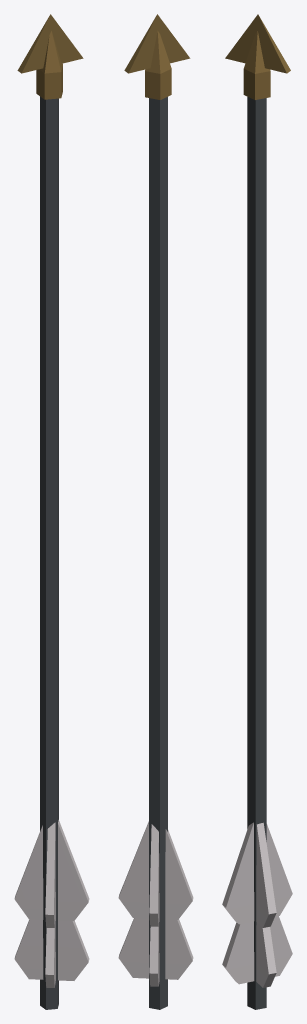
File: _arrow_b_19.glb
The picture shows the model from 3 angles, left to right: view 1: azimuth 30°, elevation 25°; view 2: azimuth 210°, elevation 25°; view 3: azimuth 330°, elevation 25°; orthographic projection.
Visible parts, largest first — view 1: arrow_b_19; view 2: arrow_b_19; view 3: arrow_b_19.
Part boxes in pixels (<box>): arrow_b_19: <box>14,14,89,1009</box>; arrow_b_19: <box>118,14,193,1009</box>; arrow_b_19: <box>222,14,292,1009</box>.
Bounding box in the file's own units: 1218 × 18617 × 1136.
Materials: 1 (1 with a texture image).
